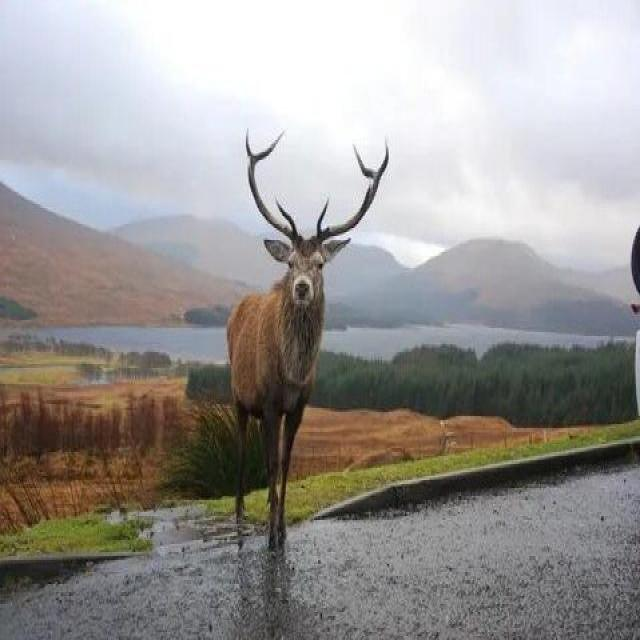deer: (142, 123, 412, 558)
